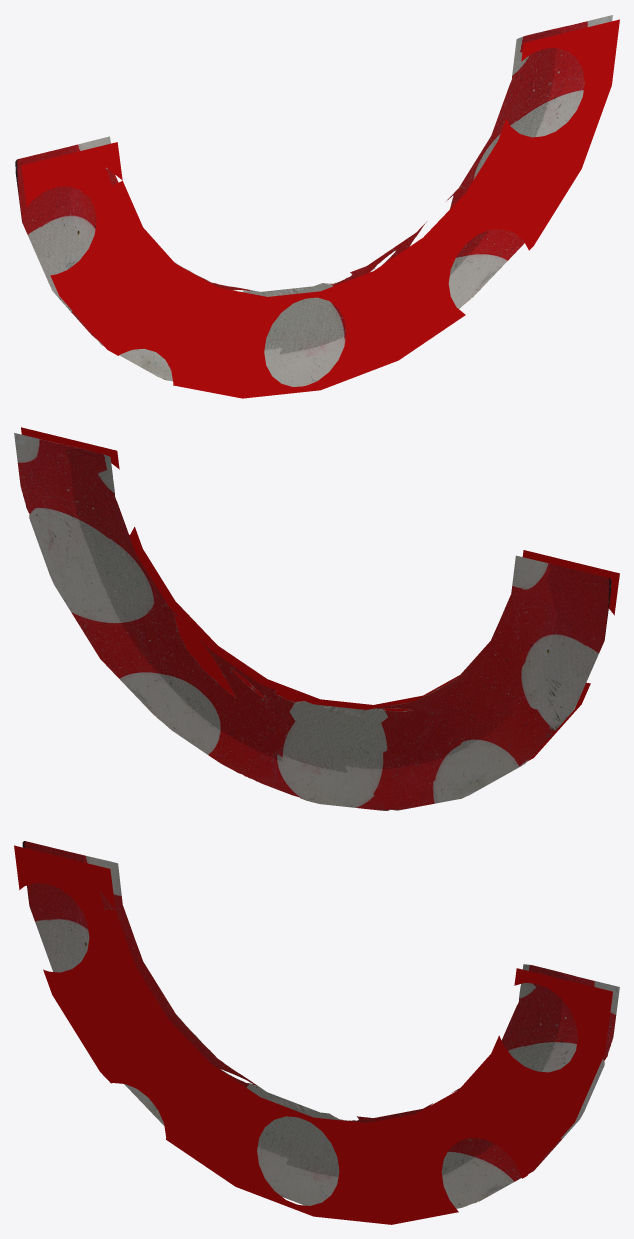
File: redDot2.fbx
3 renders of one model, top to bottom at view 1: azimuth 30°, elevation 25°; view 2: azimuth 150°, elevation 25°; view 3: azimuth 330°, elevation 25°, orthographic.
Parts seen in each view (by area): view 1: pDisc4; view 2: pDisc4; view 3: pDisc4.
Boxes of the visible parts, x1,y1,x2,y2 form: pDisc4: [15, 15, 619, 398]; pDisc4: [14, 427, 619, 810]; pDisc4: [14, 841, 619, 1224].
Size of the model in its own units: 8.56 by 4.07 by 0.1903.
2 materials, 1 textured.
